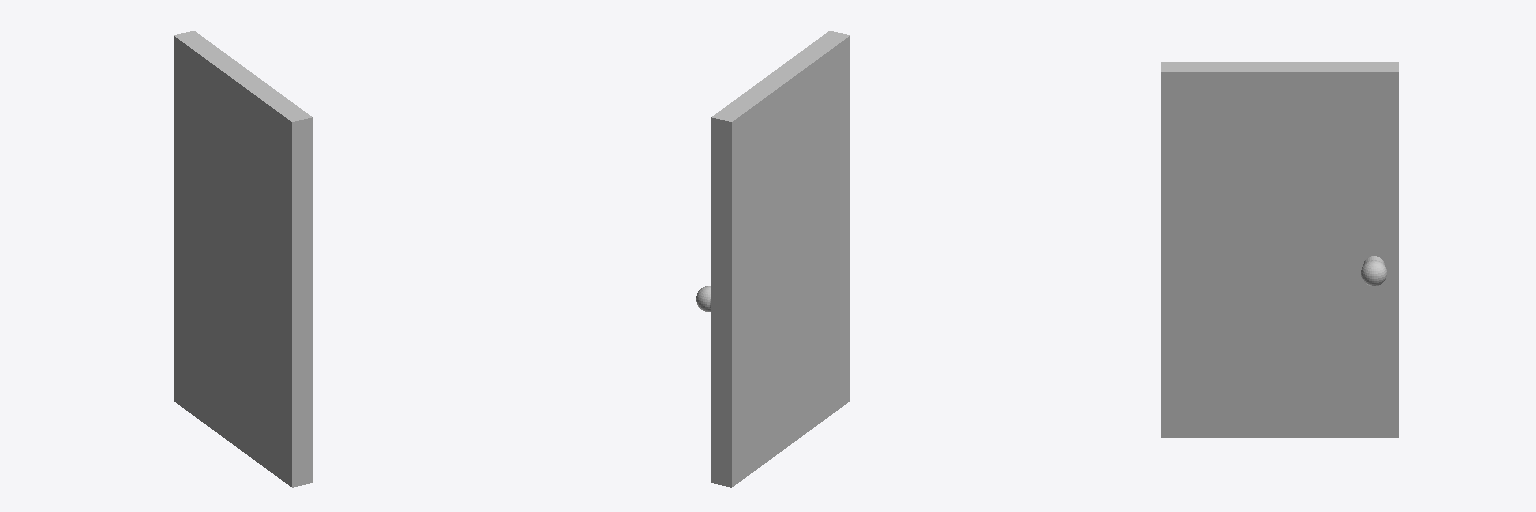
Rendered from door.obj.
3 renders of one model, left to right at view 1: azimuth 30°, elevation 25°; view 2: azimuth 150°, elevation 25°; view 3: azimuth 270°, elevation 25°, orthographic.
Visible parts, largest first — view 1: Cube; view 2: Cube; view 3: Cube, Sphere_Sphere.001.
Part boxes in pixels (x1,y1,x2,y2): Cube: (174, 31, 312, 487); Cube: (711, 31, 849, 487); Cube: (1161, 62, 1398, 437); Sphere_Sphere.001: (1361, 260, 1386, 285).
Size of the model in its own units: 0.6766 by 5.1 by 3.